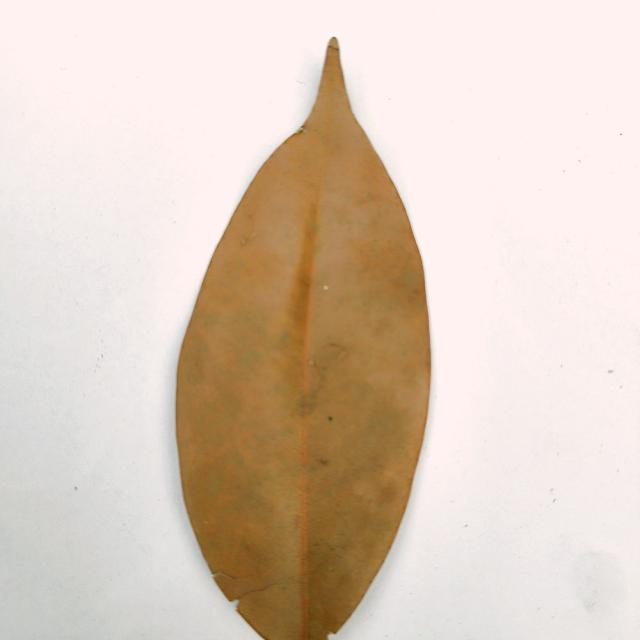Dry_Leaf-Lychee: (174, 37, 434, 639)
